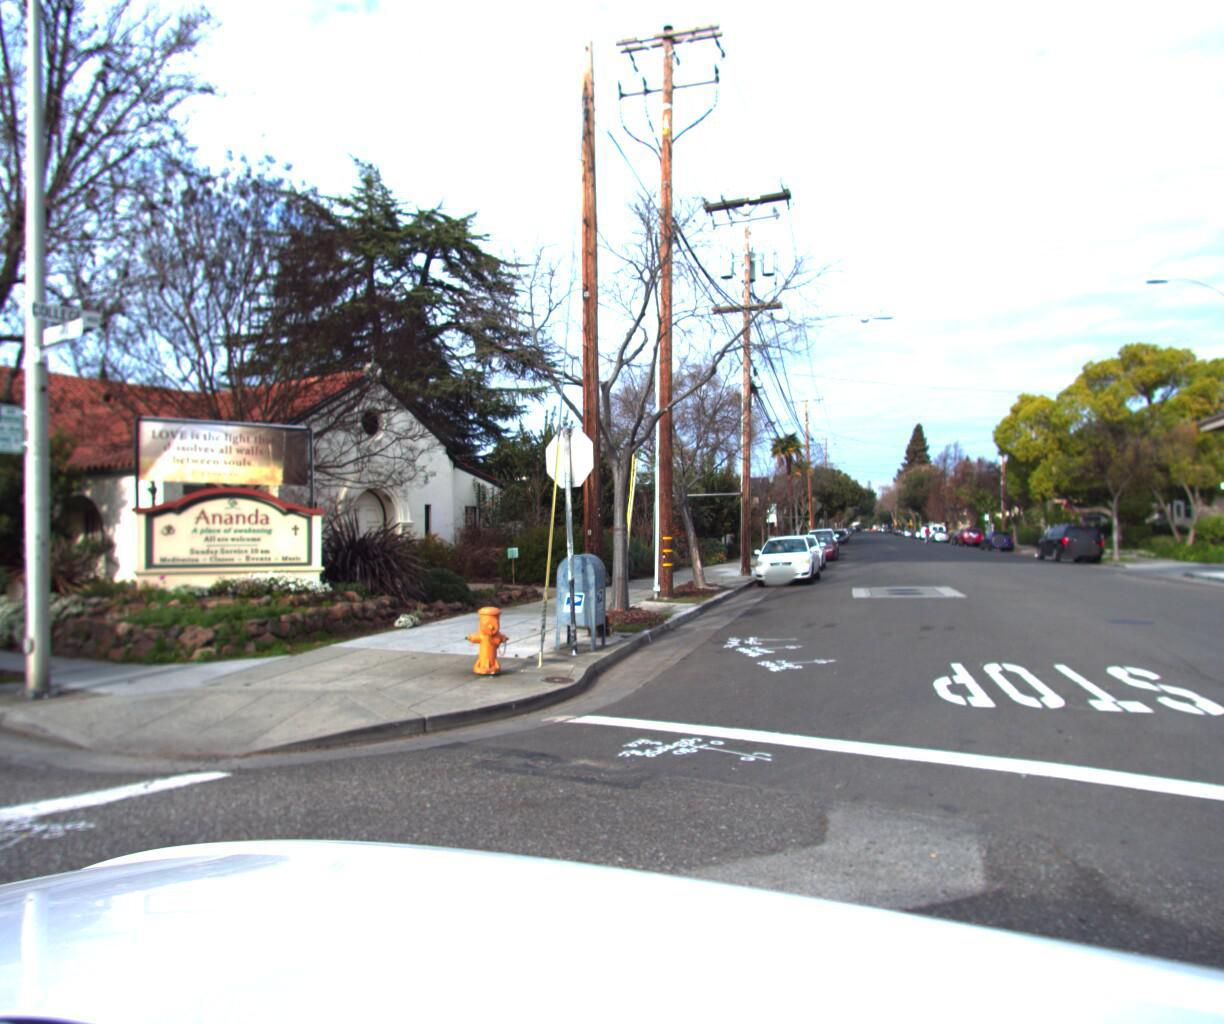car: (747, 528, 825, 584), (1040, 521, 1107, 560), (770, 529, 828, 569), (798, 526, 838, 558), (979, 525, 1015, 546), (958, 525, 986, 542)
